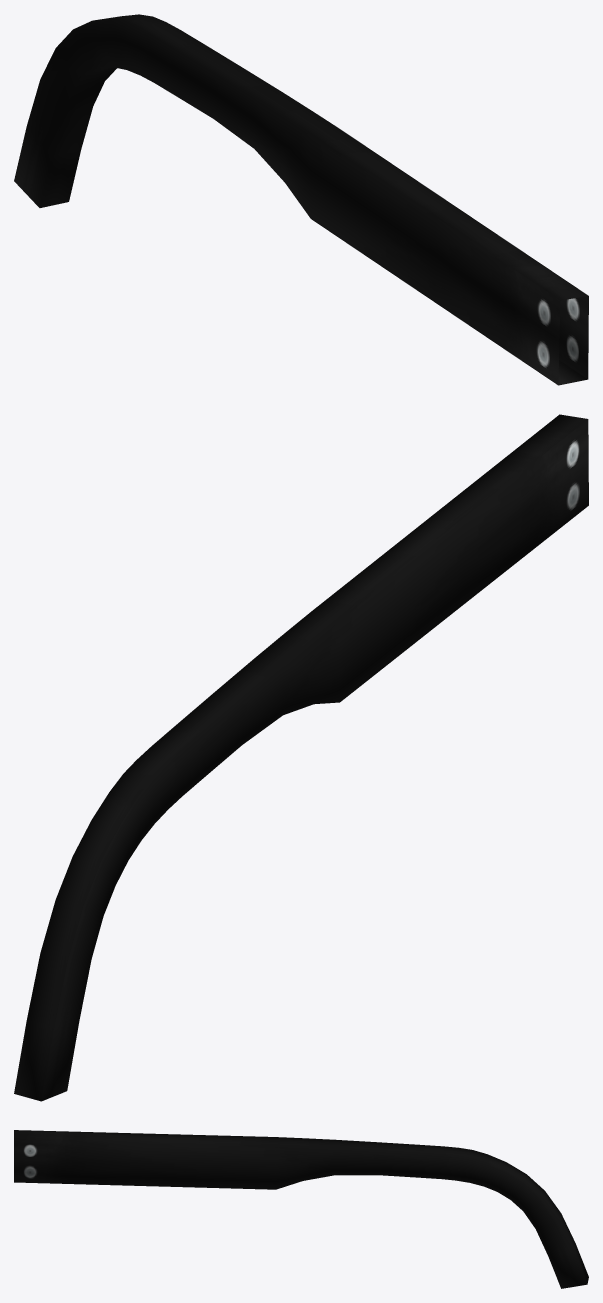
Rendered from glasses_01_right_hinge.obj.
The picture shows the model from 3 angles, top to bottom: view 1: azimuth 30°, elevation 25°; view 2: azimuth 150°, elevation 25°; view 3: azimuth 270°, elevation 25°; orthographic projection. The views are drawn at different scales.
Visible parts, largest first — view 1: Glasses.001; view 2: Glasses.001; view 3: Glasses.001.
Boxes of the visible parts, x1,y1,x2,y2 form: Glasses.001: [14, 14, 588, 385]; Glasses.001: [14, 414, 588, 1101]; Glasses.001: [14, 1130, 588, 1288].
Size of the model in its own units: 0.00341 by 0.0314 by 0.1079.
Materials: 1 (1 with a texture image).
